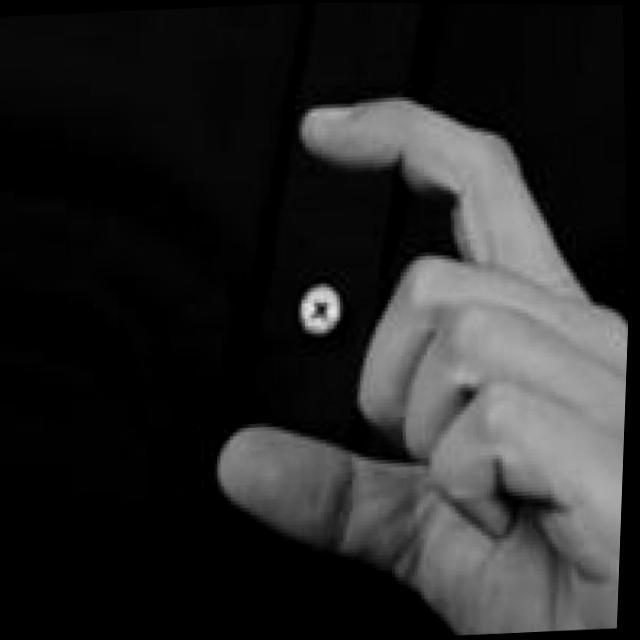C: (182, 76, 637, 640)
